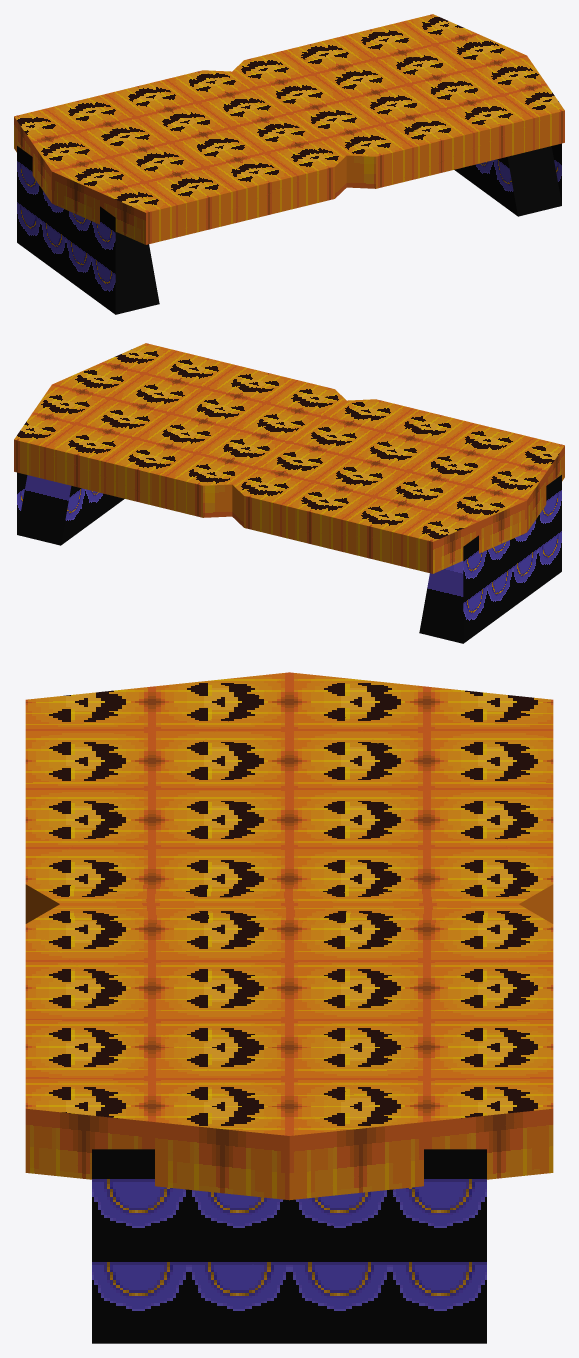
File: 3251IMIG01_06.gltf
The picture shows the model from 3 angles, top to bottom: view 1: azimuth 30°, elevation 25°; view 2: azimuth 150°, elevation 25°; view 3: azimuth 270°, elevation 25°; orthographic projection. The views are drawn at different scales.
Parts seen in each view (by area): view 1: 3251IMIG01_06; view 2: 3251IMIG01_06; view 3: 3251IMIG01_06.
Part boxes in pixels (x1=…): 3251IMIG01_06: x1=14, y1=14, x2=564, y2=314; 3251IMIG01_06: x1=14, y1=343, x2=564, y2=643; 3251IMIG01_06: x1=25, y1=672, x2=553, y2=1343.
Bounding box in the file's own units: 1.98 × 0.4399 × 0.9502.
2 materials, 2 textured.
